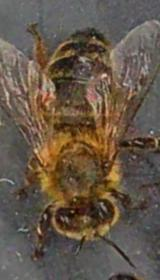varroa_mite: (29, 80, 61, 107)
